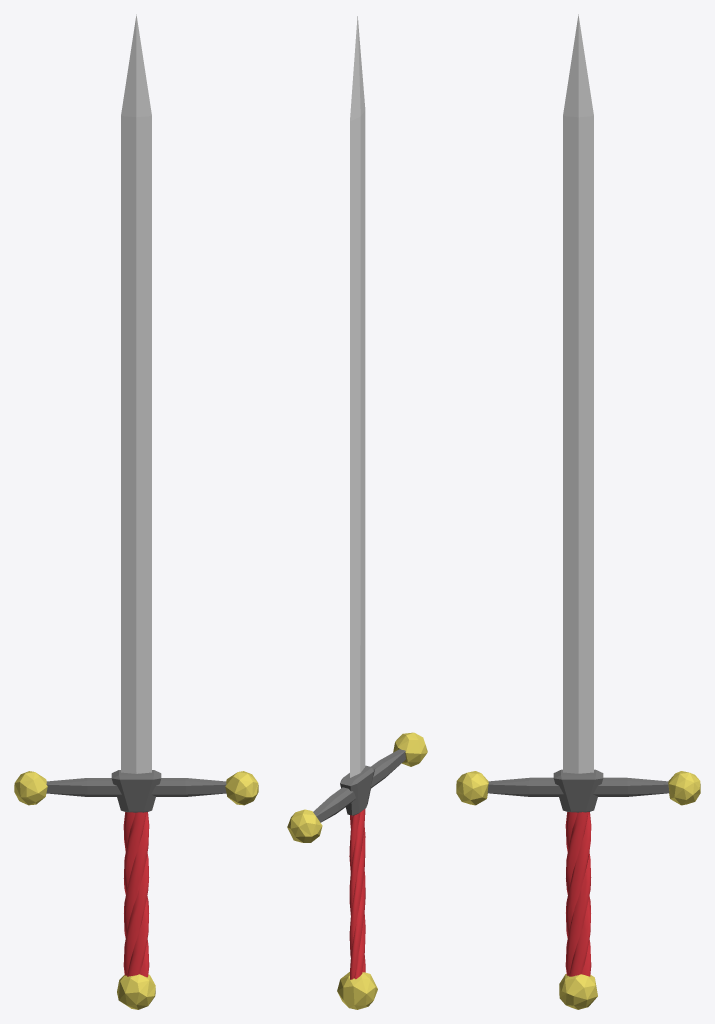
The model's file is Sword.fbx.
3 views of the same model, side by side, from view 1: azimuth 90°, elevation 25°; view 2: azimuth 150°, elevation 25°; view 3: azimuth 270°, elevation 25° (orthographic).
Visible parts, largest first — view 1: Sword; view 2: Sword; view 3: Sword.
Boxes of the visible parts, left/top/right/bottom form: Sword: left=14, top=14, right=258, bottom=1009; Sword: left=287, top=16, right=427, bottom=1009; Sword: left=456, top=14, right=700, bottom=1009.
Size of the model in its own units: 76.46 by 2158 by 481.
